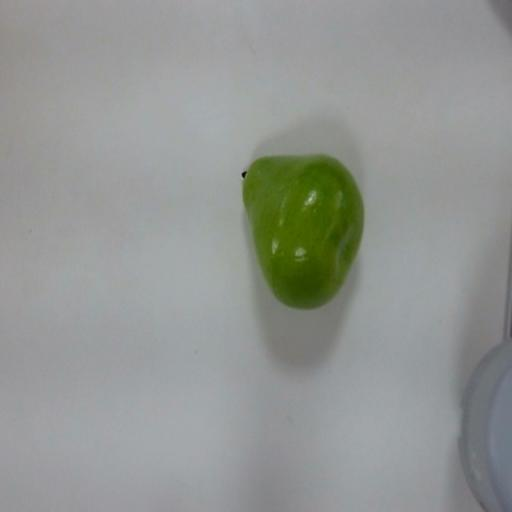Unripe: (234, 144, 394, 318)
